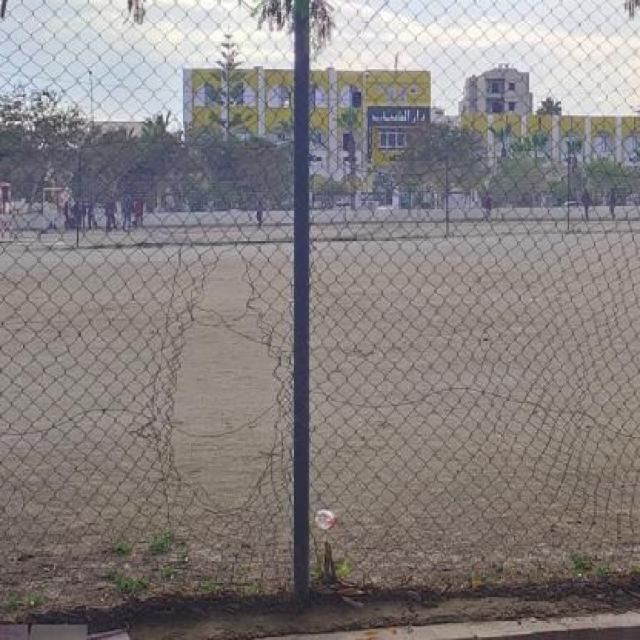fence line: (154, 226, 292, 535)
